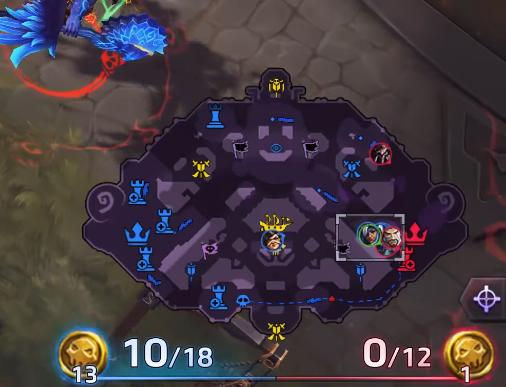blue nexus: (123, 220, 152, 246)
blue player: (261, 228, 286, 253), (357, 222, 382, 247)
blue tower: (128, 178, 150, 205), (136, 244, 157, 272), (209, 283, 229, 310), (155, 207, 175, 234), (206, 102, 226, 129)
red nexus: (404, 220, 430, 245)
red player: (369, 142, 393, 166), (381, 224, 402, 250)
red tower: (396, 246, 416, 272)
